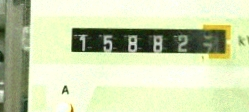1: (77, 32, 86, 50)
2: (176, 32, 188, 52)
5: (99, 32, 113, 51)
7: (200, 39, 212, 52)
8: (150, 31, 163, 52), (126, 32, 138, 52)
screen: (65, 18, 235, 62)
